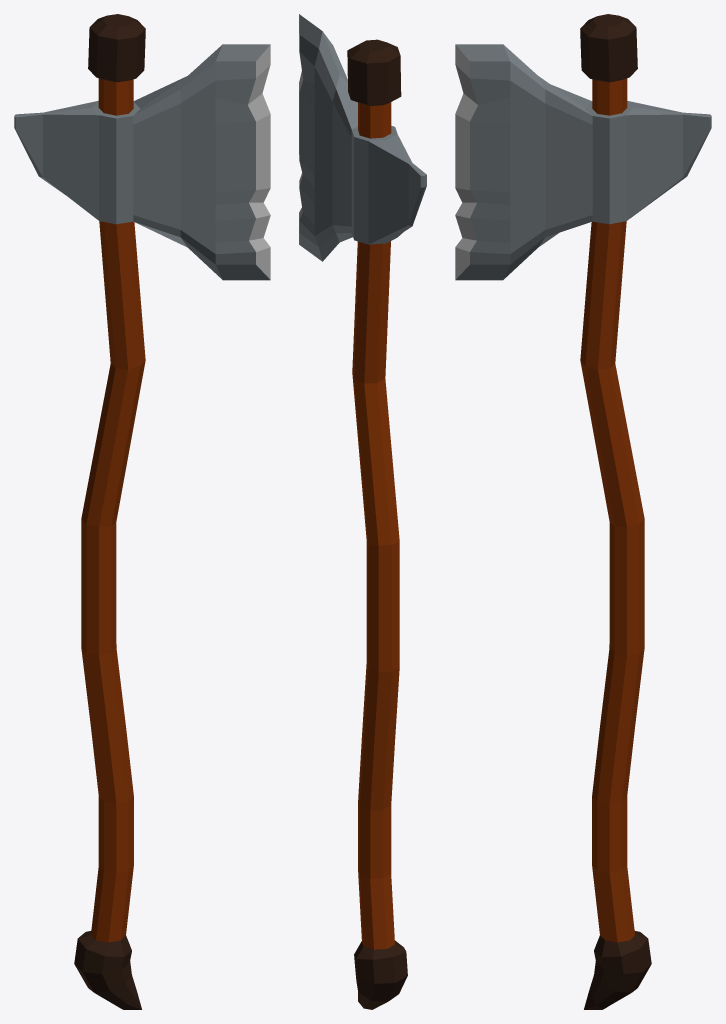
The model's file is goblin_axe.fbx.
3 views of the same model, side by side, from view 1: azimuth 90°, elevation 25°; view 2: azimuth 210°, elevation 25°; view 3: azimuth 270°, elevation 25° (orthographic). The views are drawn at different scales.
Parts seen in each view (by area): view 1: Cylinder.020; view 2: Cylinder.020; view 3: Cylinder.020.
Part boxes in pixels (<box>): Cylinder.020: <box>14,14,270,1009</box>; Cylinder.020: <box>299,14,426,1009</box>; Cylinder.020: <box>455,14,711,1009</box>.
Size of the model in its own units: 40.42 by 784 by 184.
Materials: 1 (1 with a texture image).
